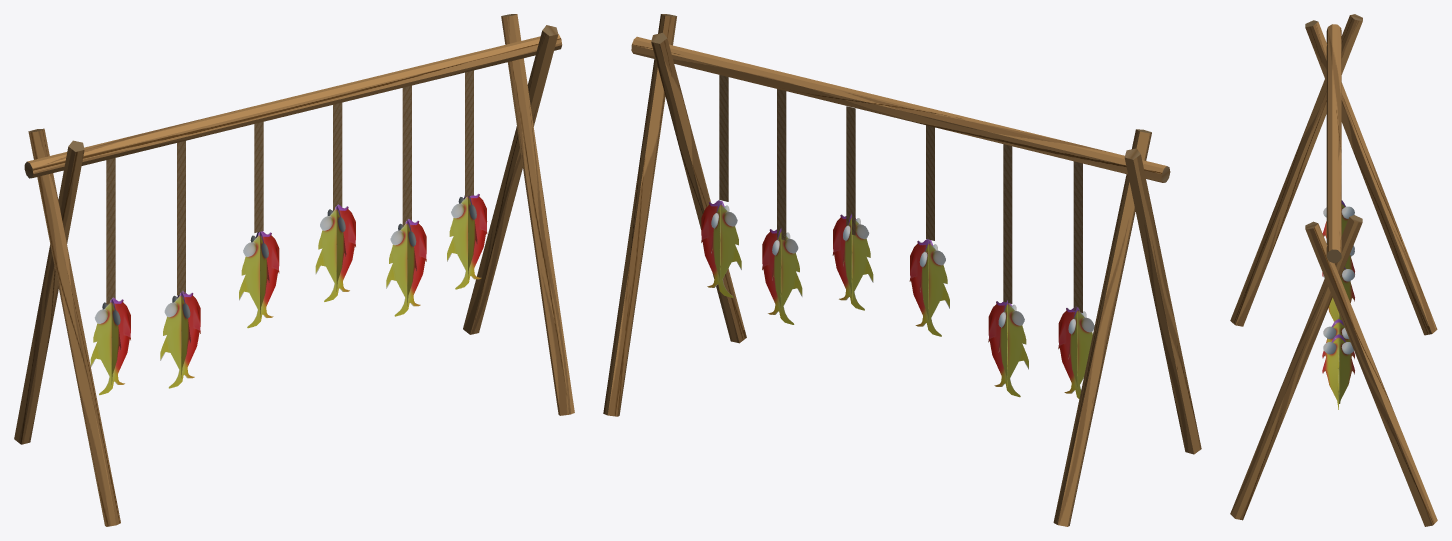
File: sechoir.fbx
3 views of the same model, side by side, from view 1: azimuth 30°, elevation 25°; view 2: azimuth 150°, elevation 25°; view 3: azimuth 270°, elevation 25° (orthographic). The views are drawn at different scales.
Parts seen in each view (by area): view 1: sechoir; view 2: sechoir; view 3: sechoir.
Boxes of the visible parts, left/top/right/bottom form: sechoir: left=14, top=14, right=574, bottom=526; sechoir: left=603, top=14, right=1201, bottom=526; sechoir: left=1230, top=14, right=1437, bottom=526.
Bounding box in the file's own units: 209 × 132 × 81.36.
Materials: 1 (1 with a texture image).
